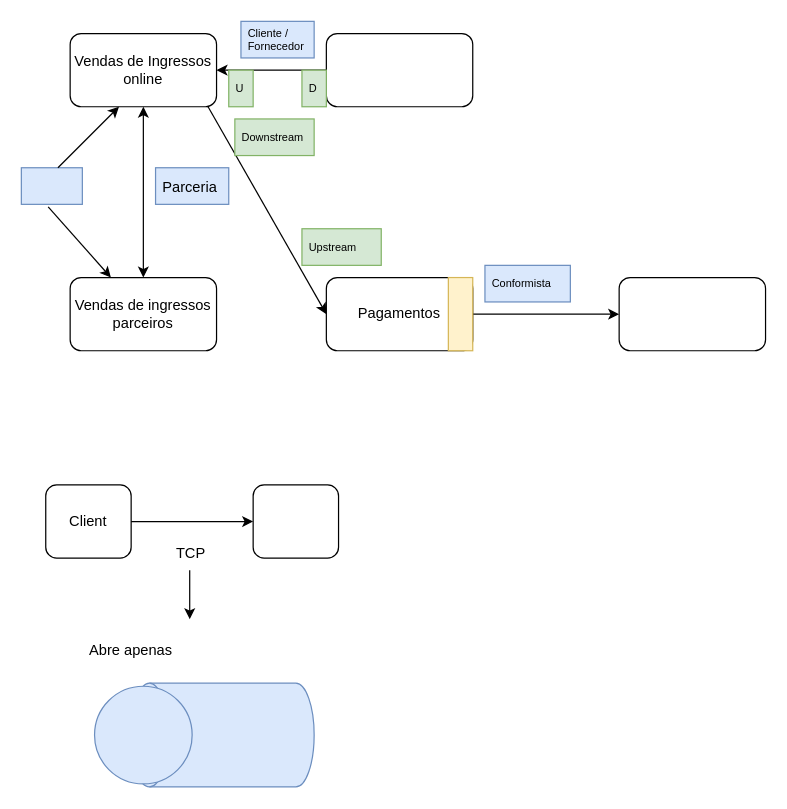
The diagram is 787 pixels wide and 809 high, and some of its shapes have lost their labels. Each missing label, with the box of its shape:
A C L: (447, 276, 473, 351)
Gateway Pagamento: (618, 276, 766, 351)
Server: (252, 484, 339, 558)
Shared: (20, 167, 82, 204)
Suporte ao CLiente: (325, 32, 473, 107)
